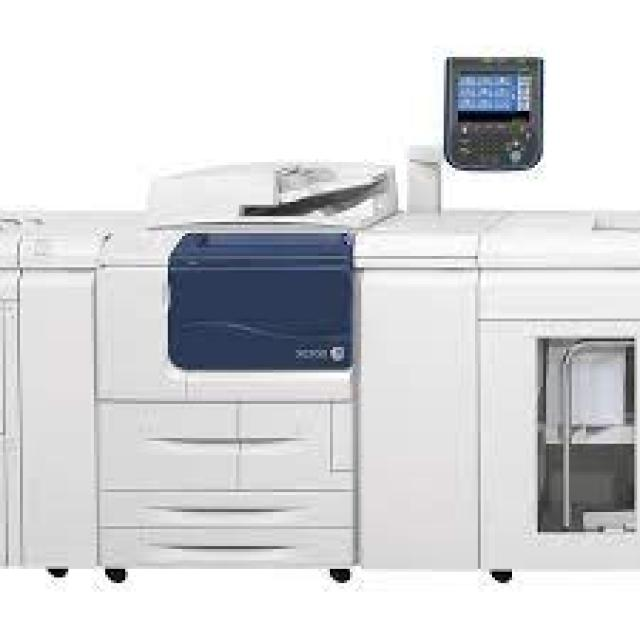printer: (350, 143, 640, 610), (100, 142, 364, 585), (404, 34, 606, 220)
